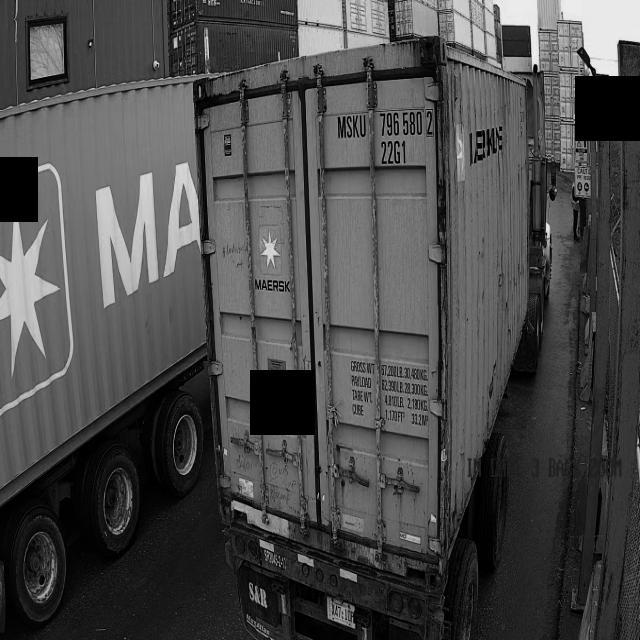container_company_logo: (253, 225, 288, 300)
container_number: (336, 111, 436, 169)
license_plate: (323, 598, 359, 629)
other_container_info: (348, 353, 429, 430)
truck_with_container: (195, 37, 556, 640), (0, 78, 206, 629)
